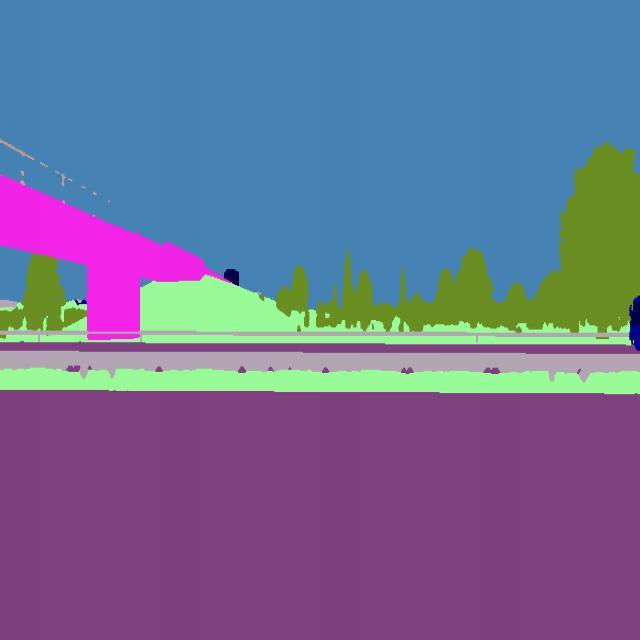safe: (627, 290, 640, 354), (221, 264, 242, 294)
